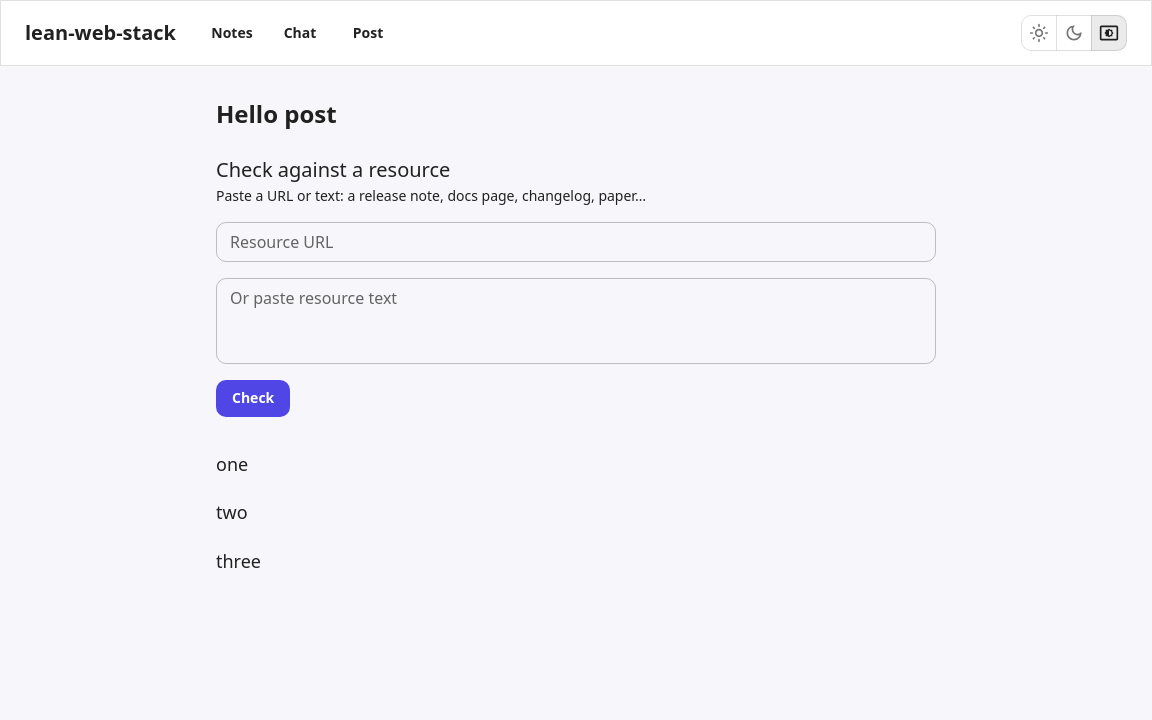
Test case: 503 shows the unavailable message
The width and height of the screenshot is (1152, 720).
Type "v2 changes" into the text box labelled "Or paste resource text" at point(576, 321), box [230,286,922,356]
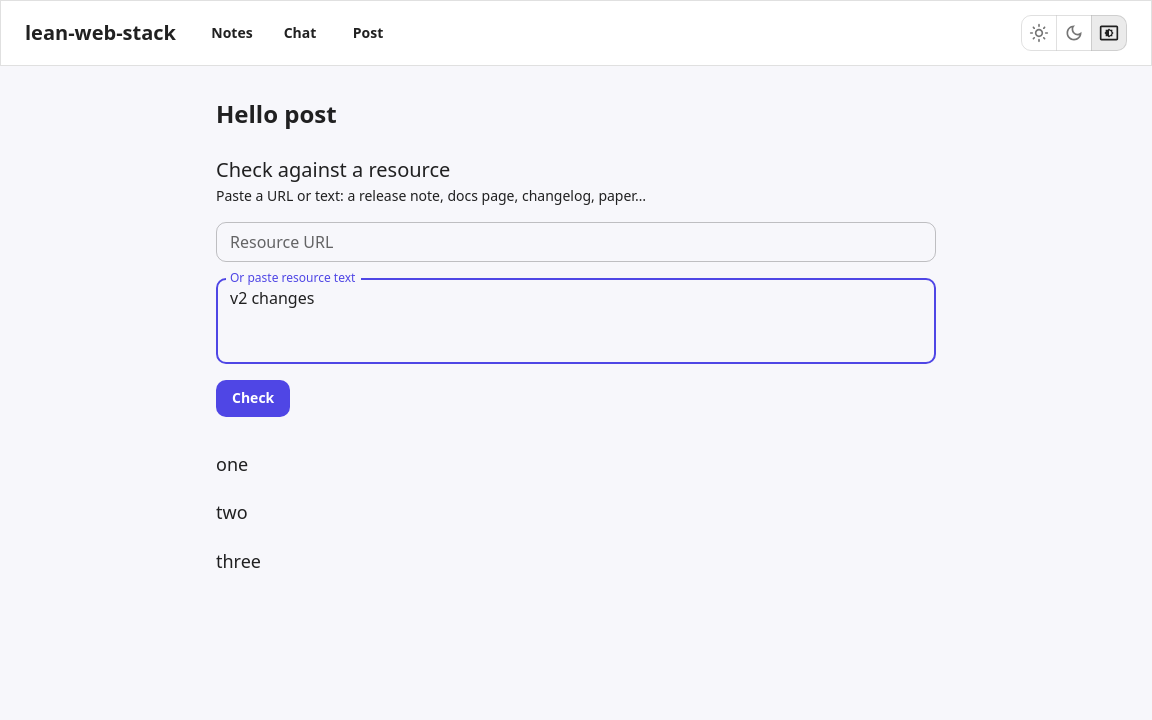
Click the button "Check" at point(253, 398), box [216,380,290,416]
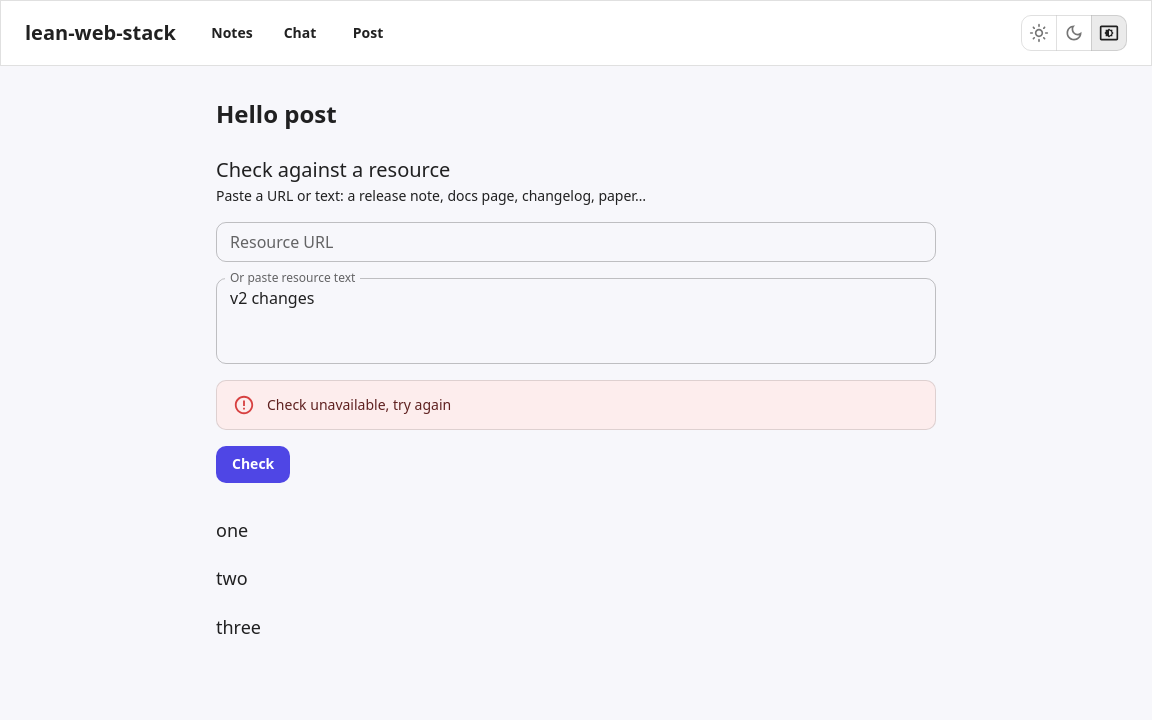
Check: the message reads "Check unavailable, try again", box [267,395,451,414]
